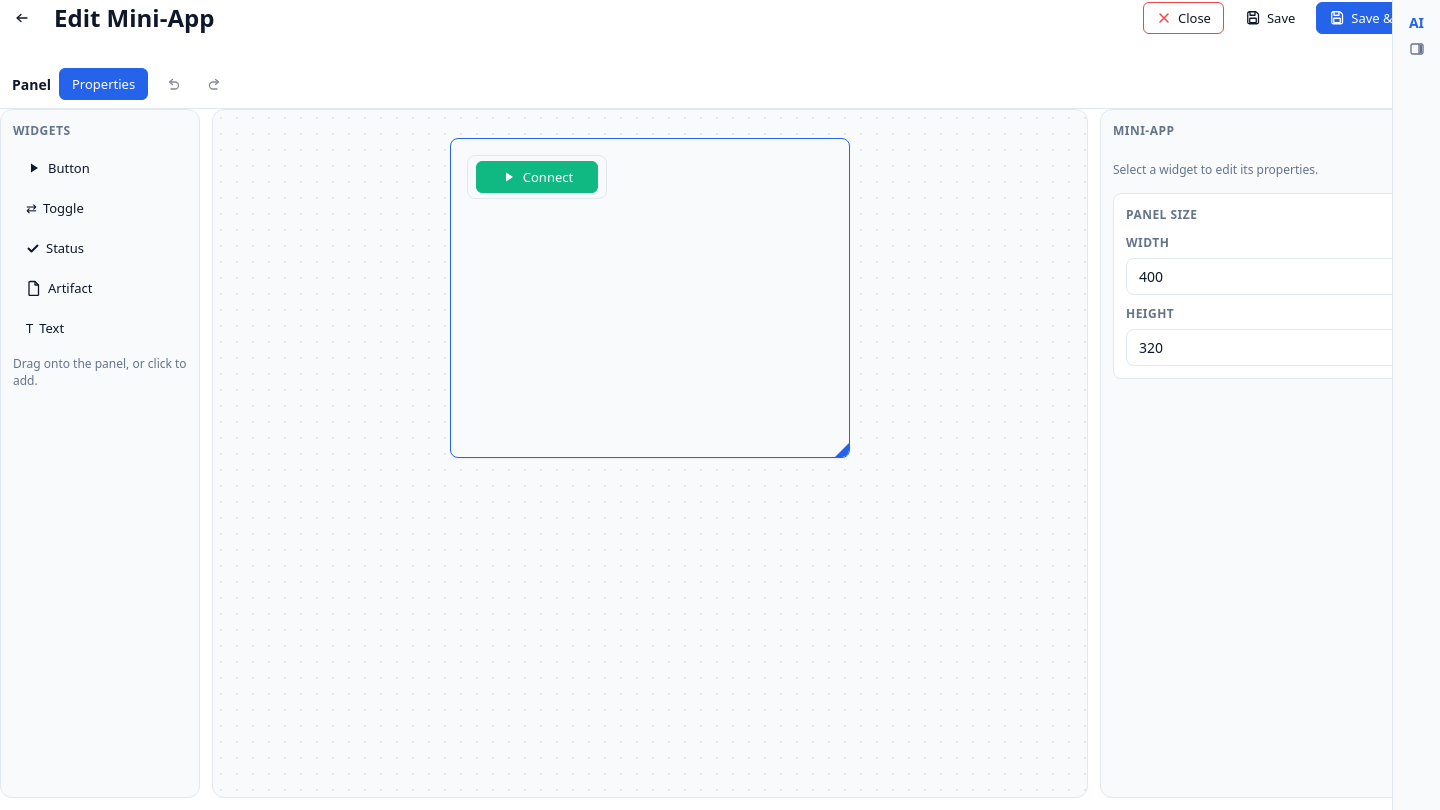
Test: MiniAppEditor — duplicate & delete › Delete key on a selected widget raises the confirm rather than deleting
Focus the button with class "ma-canvas-widget" at point(537, 177), box x1=467 y1=155 x2=607 y2=199
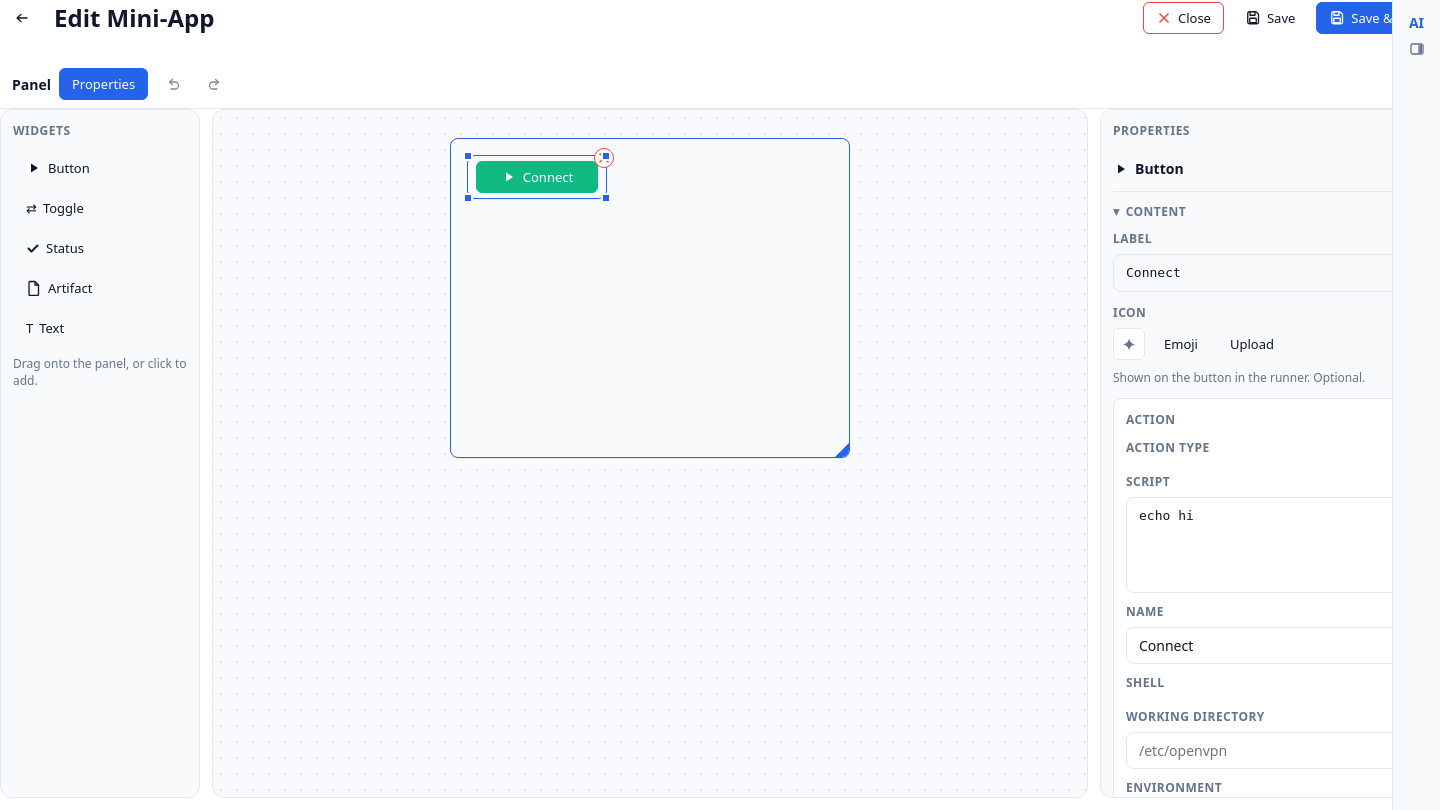
Press Delete
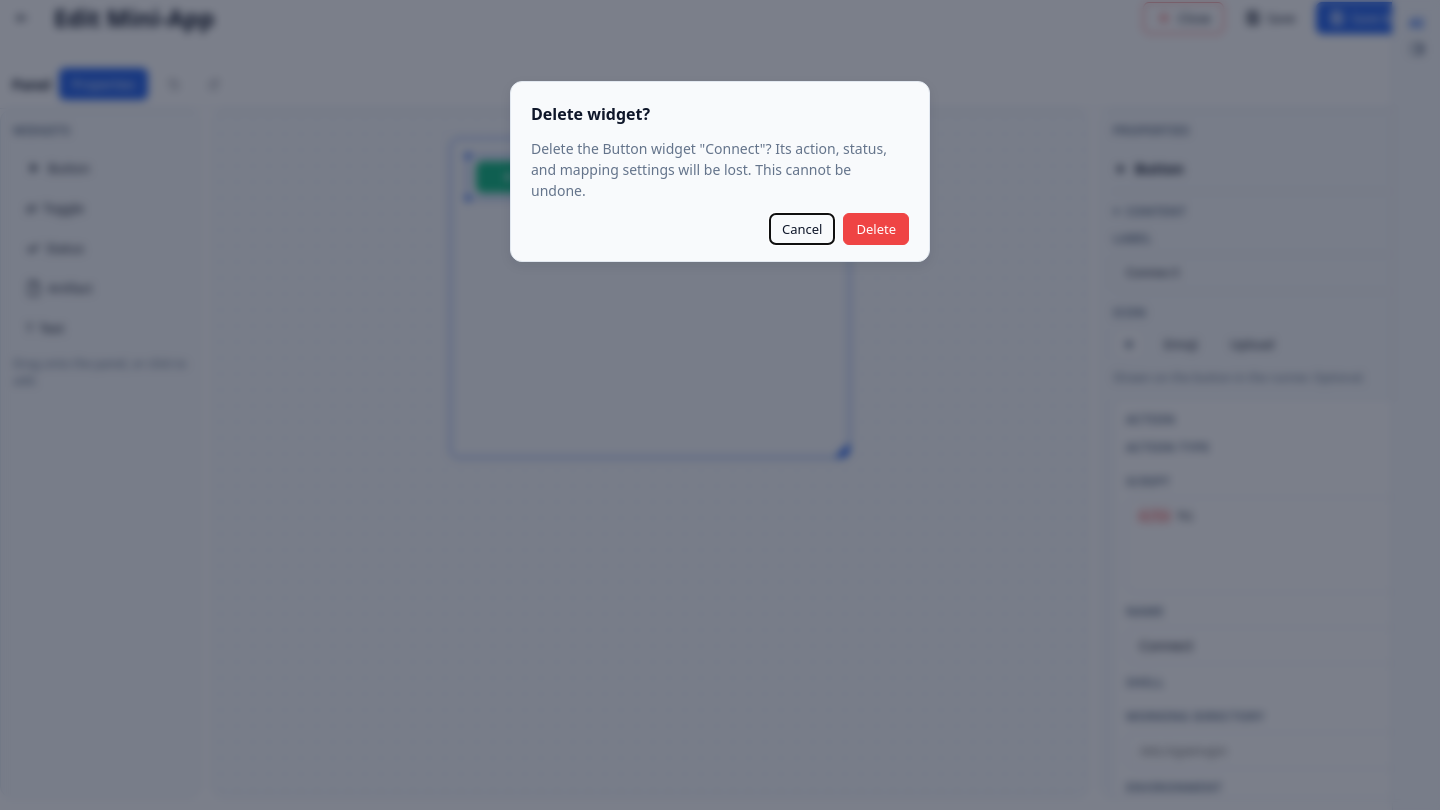
Check: the number of buttons with class "ma-canvas-widget" is 1, box x1=467 y1=155 x2=607 y2=199
Check: the heading "Delete widget?" is shown, box x1=531 y1=103 x2=650 y2=125
